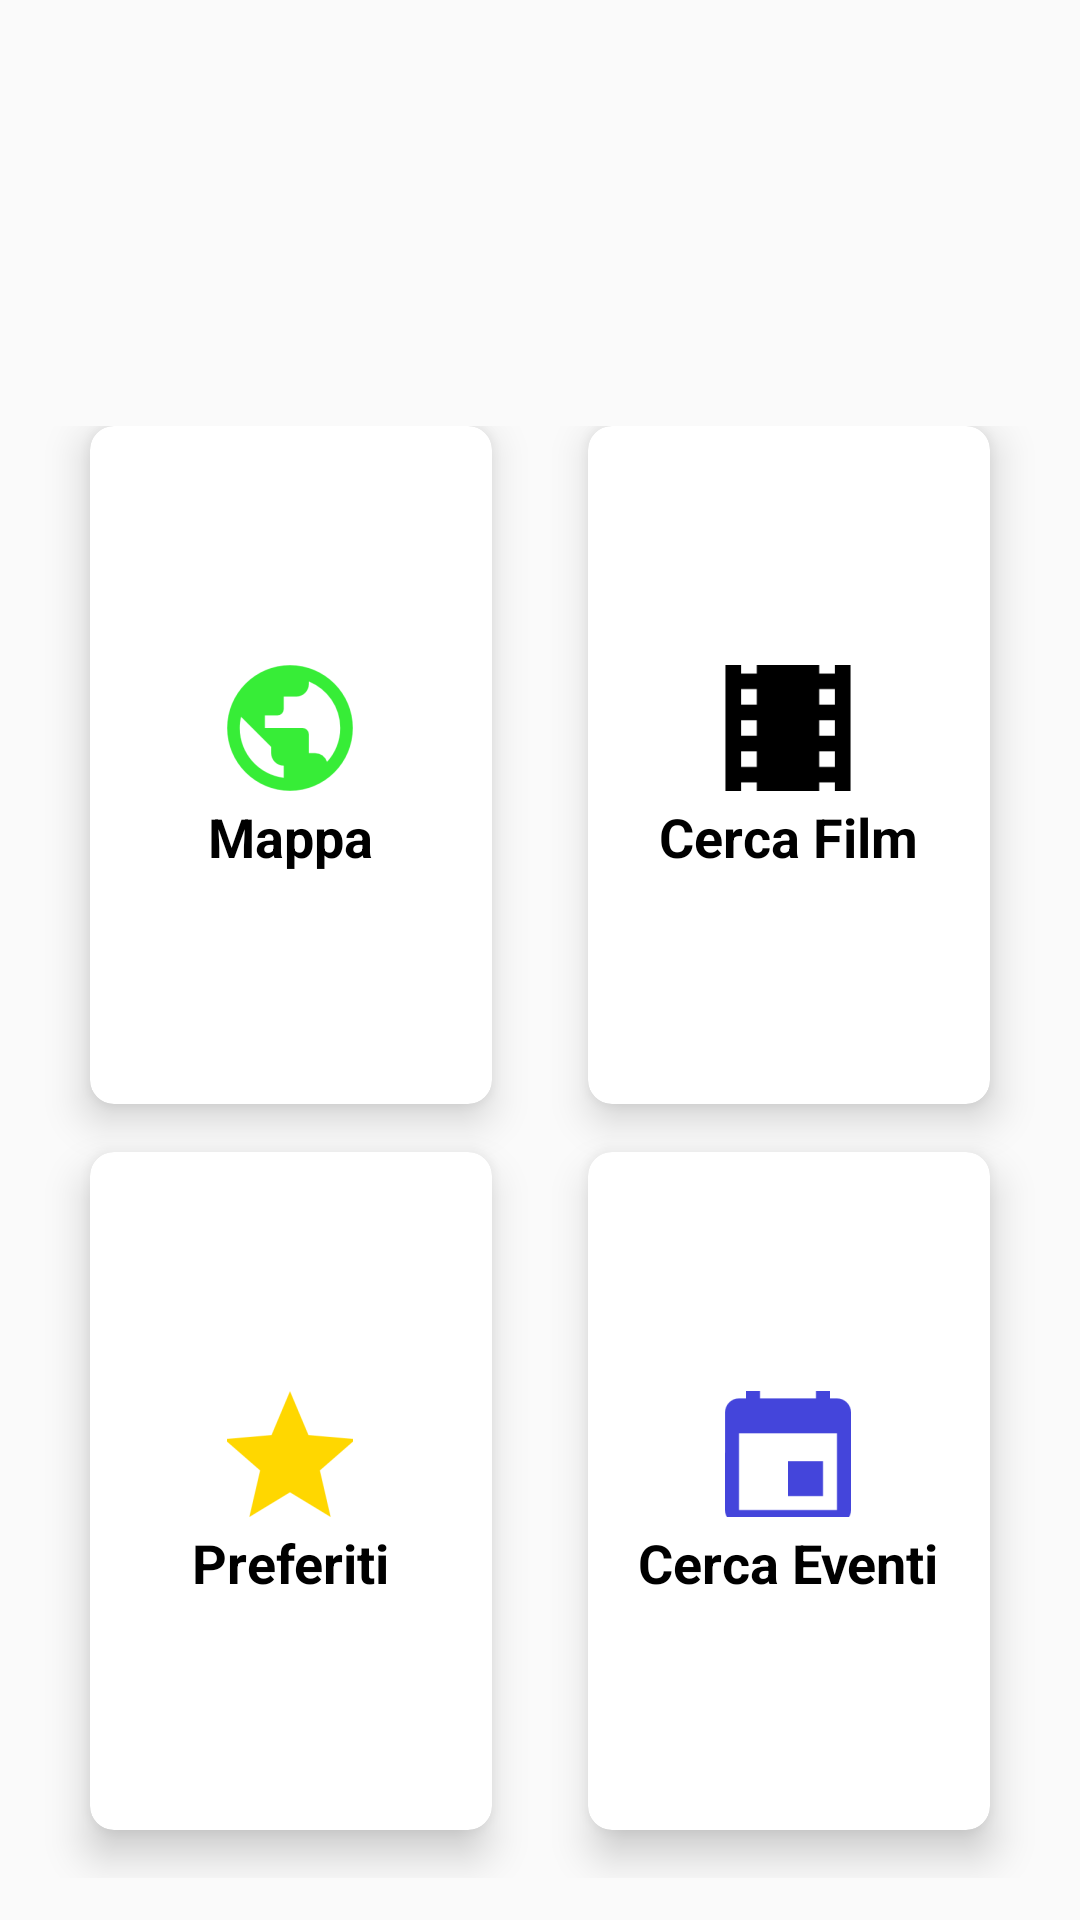

Point at icon controls on the screen. Image size 1080 x 1920, points as (x,y).
globo: (290,728)
